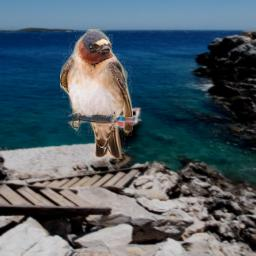Swallow: (60, 29, 133, 159)
